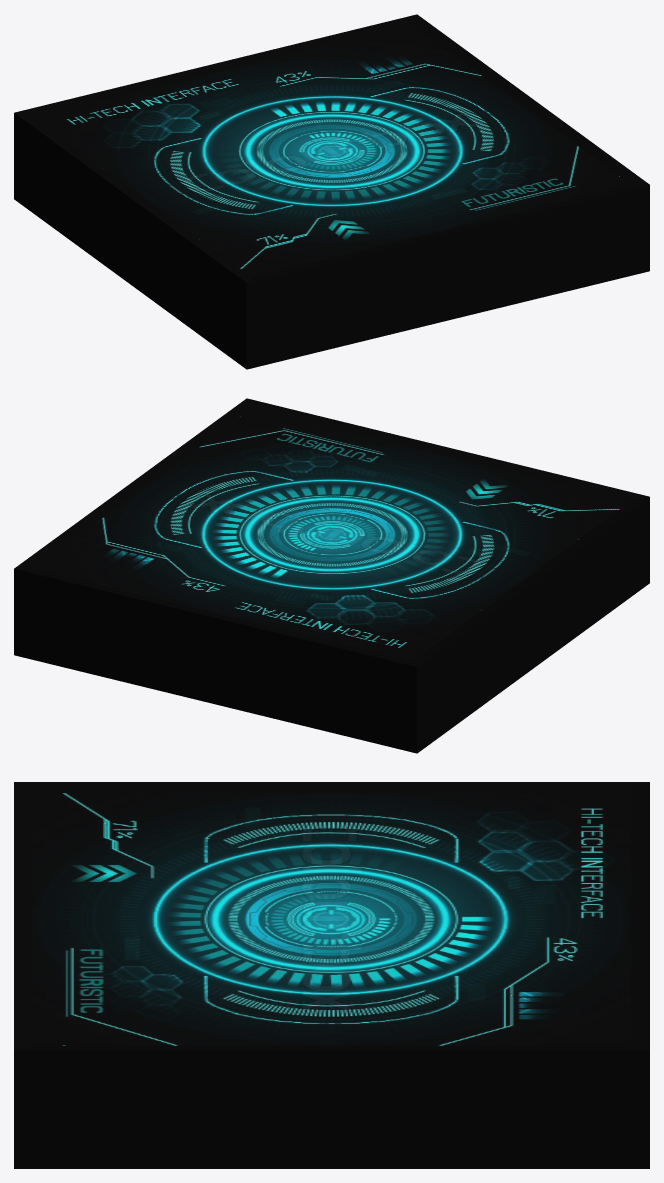
Rendered from hitech_interface.fbx.
The picture shows the model from 3 angles, top to bottom: view 1: azimuth 30°, elevation 25°; view 2: azimuth 150°, elevation 25°; view 3: azimuth 270°, elevation 25°; orthographic projection. The views are drawn at different scales.
Parts seen in each view (by area): view 1: pCube1; view 2: pCube1; view 3: pCube1.
Part boxes in pixels (x1,y1,x2,y2): pCube1: (14, 14, 649, 369); pCube1: (14, 398, 649, 753); pCube1: (14, 782, 649, 1168).
Size of the model in its own units: 10.33 by 2.12 by 10.33.
